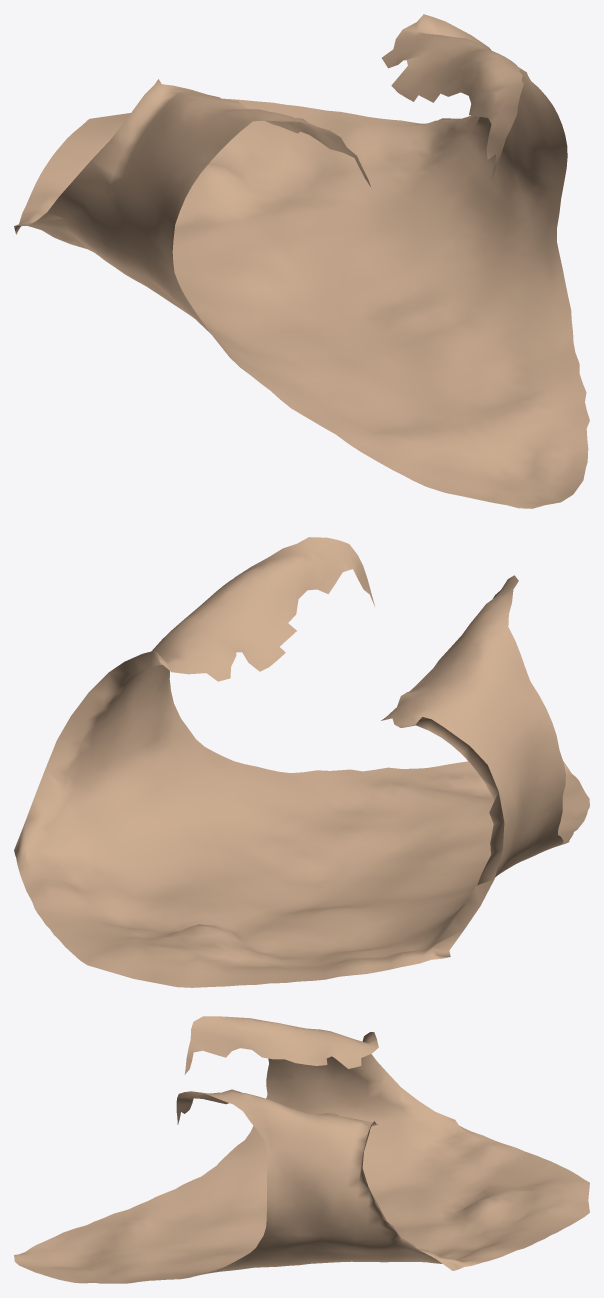
3 renders of one model, top to bottom at view 1: azimuth 30°, elevation 25°; view 2: azimuth 150°, elevation 25°; view 3: azimuth 270°, elevation 25°, orthographic. The views are drawn at different scales.
Parts seen in each view (by area): view 1: 腹横筋膜; view 2: 腹横筋膜; view 3: 腹横筋膜.
Boxes of the visible parts, x1,y1,x2,y2 form: 腹横筋膜: [14, 14, 589, 508]; 腹横筋膜: [14, 537, 589, 987]; 腹横筋膜: [14, 1016, 589, 1283].
Size of the model in its own units: 0.3437 by 0.2264 by 0.557.
